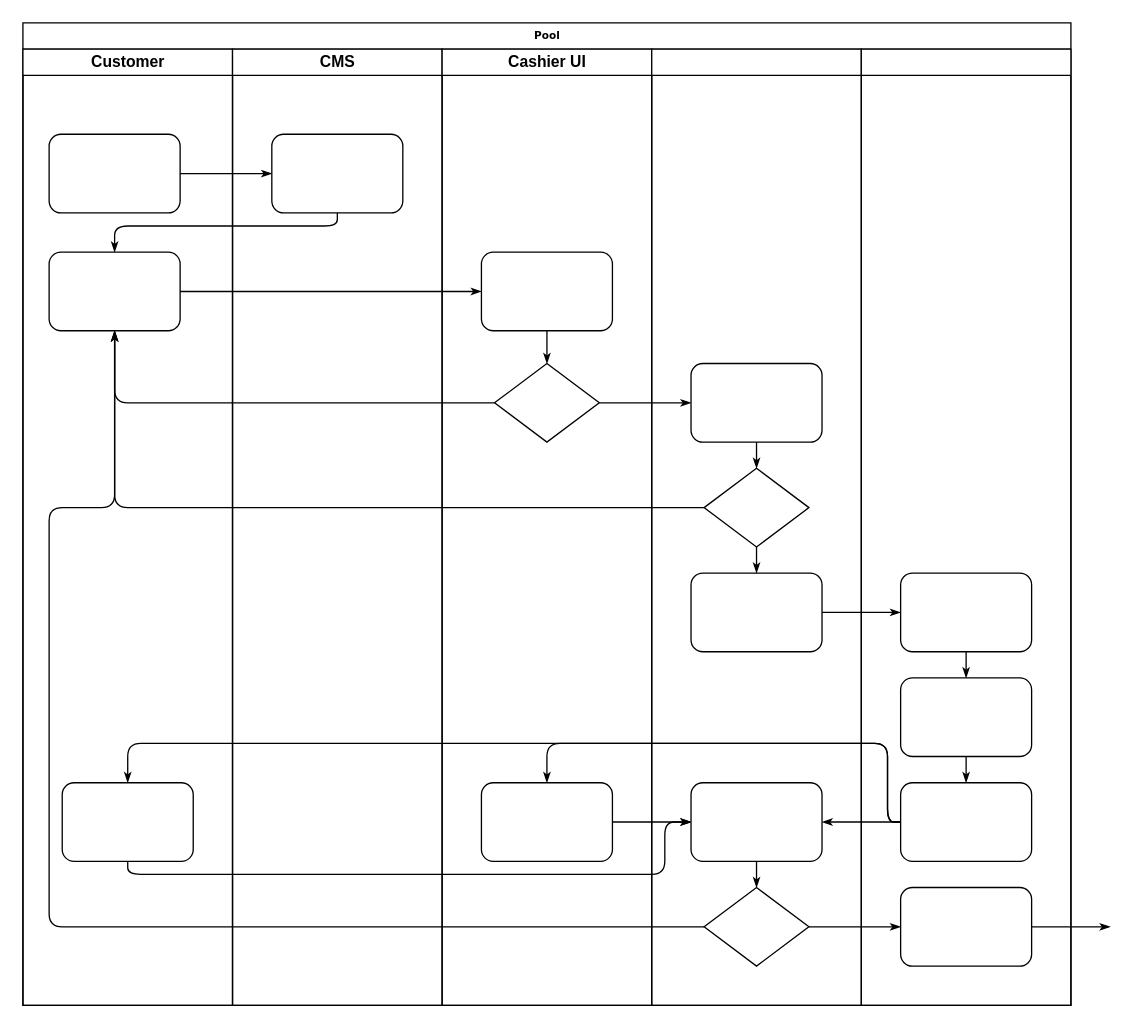
Some shapes in this 1142 by 1028 pixel diagram are drawn without their labels. Each missing label, with the box of its shape:
Operators: (860, 48, 1071, 1005)
Order Processor: (650, 48, 861, 1005)
